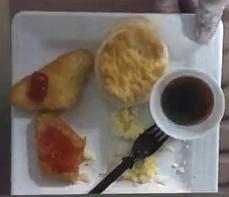biscuit: (94, 17, 165, 103)
hash: (11, 49, 92, 109), (36, 114, 85, 183)
scrambled_eggs: (112, 108, 144, 139), (122, 156, 157, 183)
